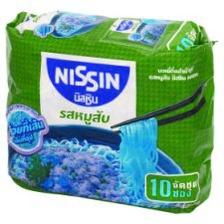snack: (0, 4, 221, 217)
